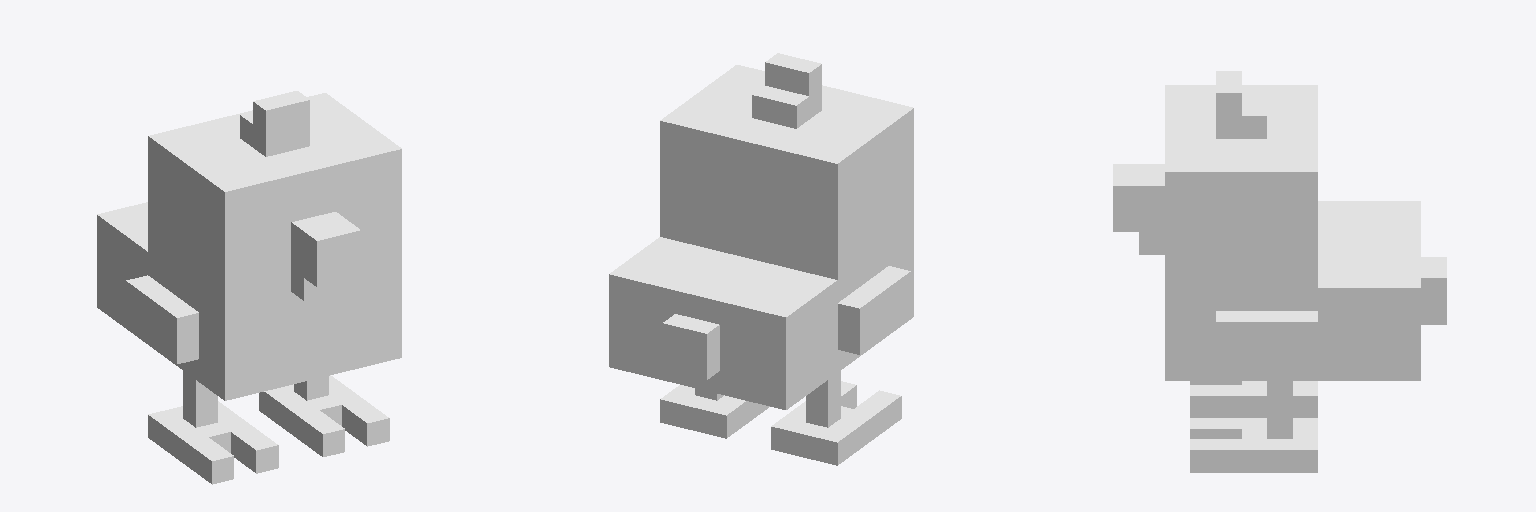
The model's file is ayam.obj.
3 views of the same model, side by side, from view 1: azimuth 30°, elevation 25°; view 2: azimuth 150°, elevation 25°; view 3: azimuth 270°, elevation 25° (orthographic).
Bounding box in the file's own units: 0.6667 × 1 × 0.8667.